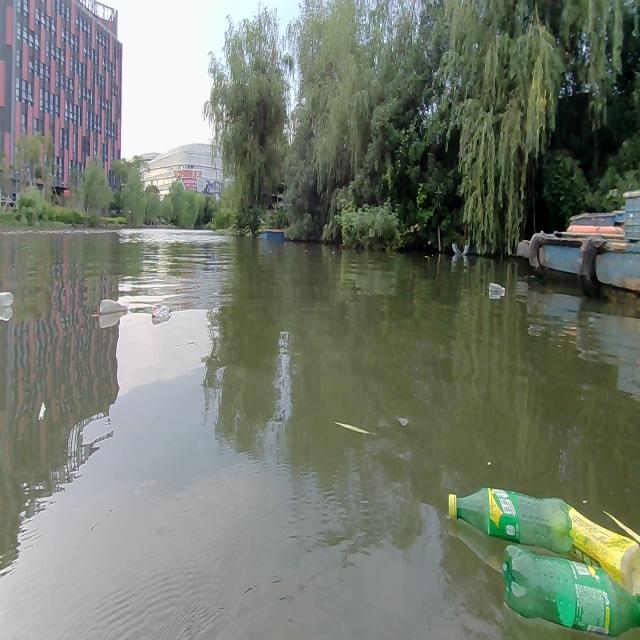bottle: (504, 548, 640, 636), (448, 479, 574, 557), (560, 502, 640, 596), (97, 299, 129, 318), (150, 300, 172, 322), (487, 277, 506, 299), (0, 288, 14, 308)
